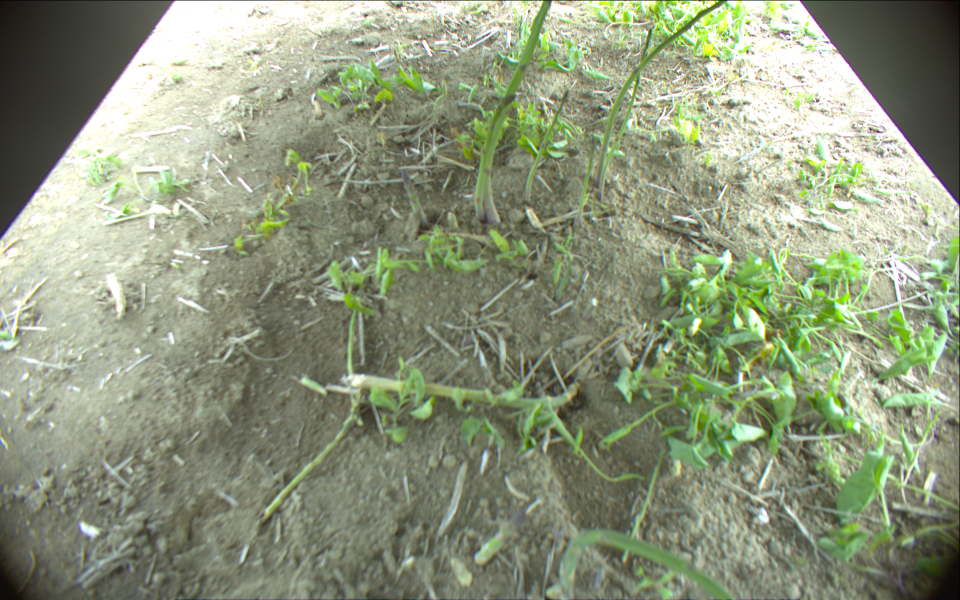aspa: (594, 1, 727, 188), (481, 2, 550, 221), (257, 391, 364, 529), (557, 528, 740, 600), (599, 26, 655, 200), (346, 372, 581, 411), (473, 92, 518, 221), (524, 88, 568, 207), (475, 507, 526, 568), (575, 135, 596, 226), (400, 169, 428, 224)
